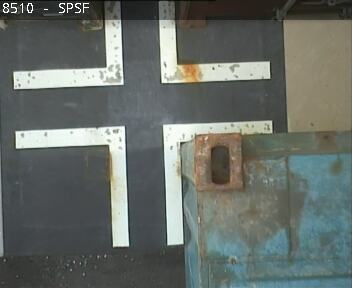groundmarker_1: (15, 120, 270, 244), (13, 1, 270, 91)
